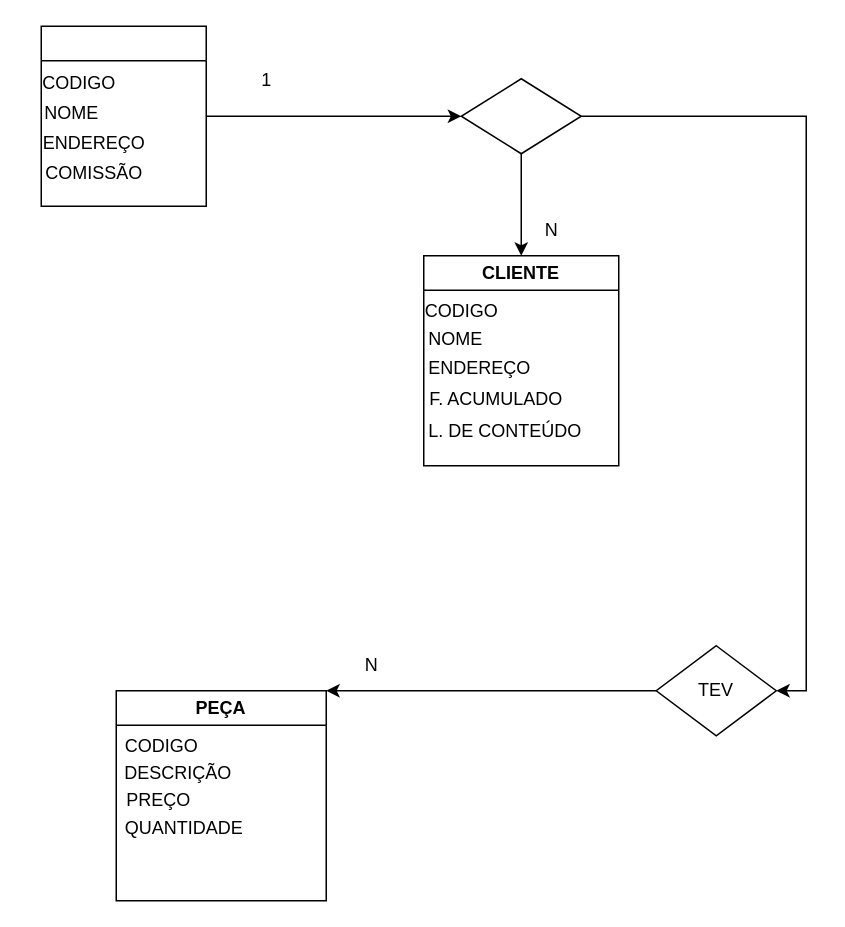
Some shapes in this 845 by 927 pixel diagram are drawn without their labels. The box of each missing label's shape, as (x1, y1, x2, y2) in pixels:
ATENDER: (460, 77, 581, 154)
VENDEDOR: (40, 25, 206, 206)
